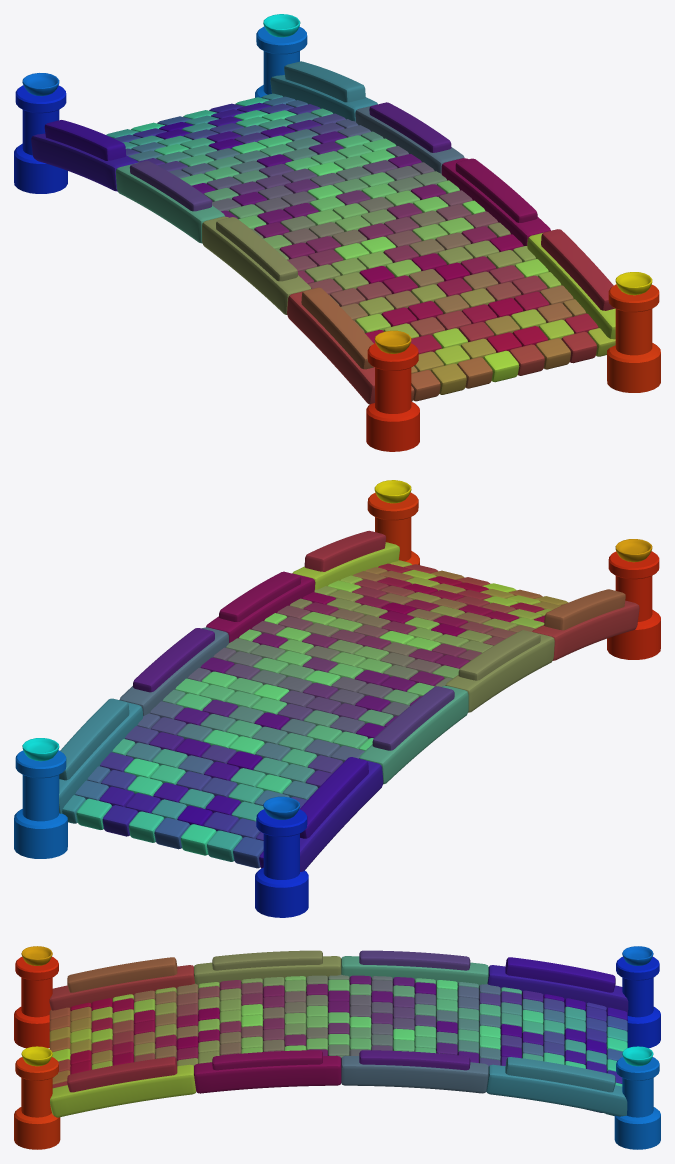
The model's file is Rainbow_BridgeA.fbx.
3 renders of one model, top to bottom at view 1: azimuth 30°, elevation 25°; view 2: azimuth 150°, elevation 25°; view 3: azimuth 270°, elevation 25°, orthographic. The views are drawn at different scales.
Visible parts, largest first — view 1: RainbowBridge_A; view 2: RainbowBridge_A; view 3: RainbowBridge_A.
Part boxes in pixels (<box>): RainbowBridge_A: <box>14,14,660,451</box>; RainbowBridge_A: <box>14,480,660,917</box>; RainbowBridge_A: <box>14,946,660,1149</box>.
Bounding box in the file's own units: 776 × 264 × 1772.
